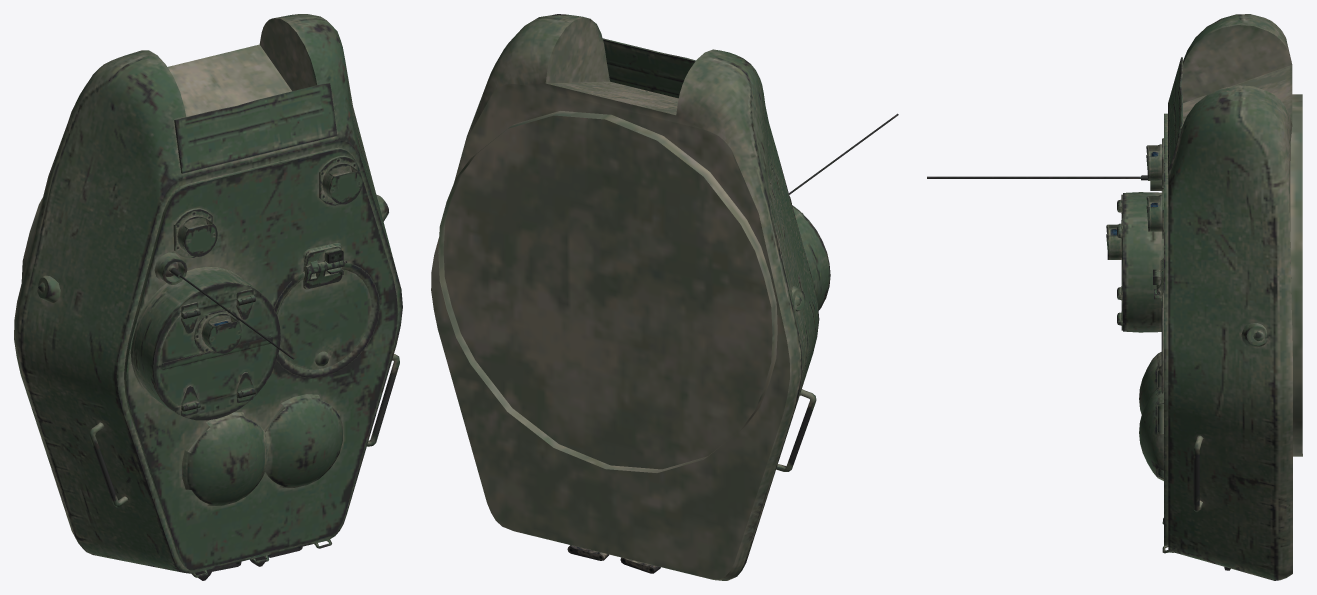
The model's file is Turret_01.glb.
The picture shows the model from 3 angles, left to right: view 1: azimuth 30°, elevation 25°; view 2: azimuth 150°, elevation 25°; view 3: azimuth 270°, elevation 25°; orthographic projection. The views are drawn at different scales.
Visible parts, largest first — view 1: set_0_group_0; view 2: set_0_group_0; view 3: set_0_group_0.
Boxes of the visible parts, <box> form: set_0_group_0: <box>14,14,402,580</box>; set_0_group_0: <box>431,14,898,580</box>; set_0_group_0: <box>927,14,1302,580</box>.
Size of the model in its own units: 1.86 by 2.58 by 1.76.
Materials: 1 (1 with a texture image).
